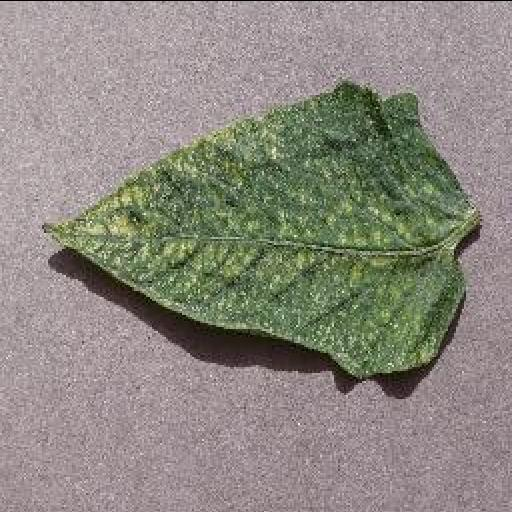disease_tomato: (40, 82, 466, 376)
